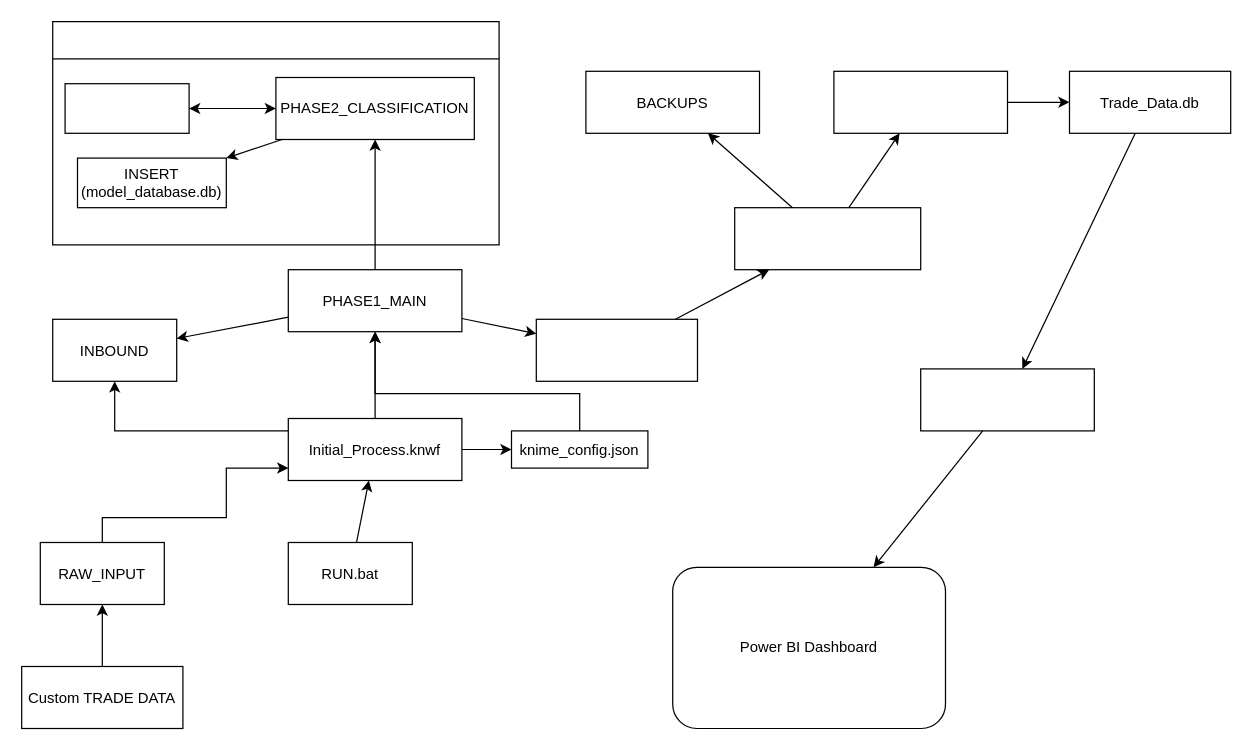
This 1252x750 diagram has some shape labels left out. Each missing label, with the box of its shape:
AI_PROCESS: (64, 82, 189, 133)
Final_Process.knwf: (733, 206, 921, 270)
MODEL DATABASE ENVIRONMENT: (51, 20, 499, 245)
OUTPUTS: (833, 70, 1008, 133)
PROCESSED: (535, 318, 698, 381)
Refresh Data: (919, 368, 1094, 431)
